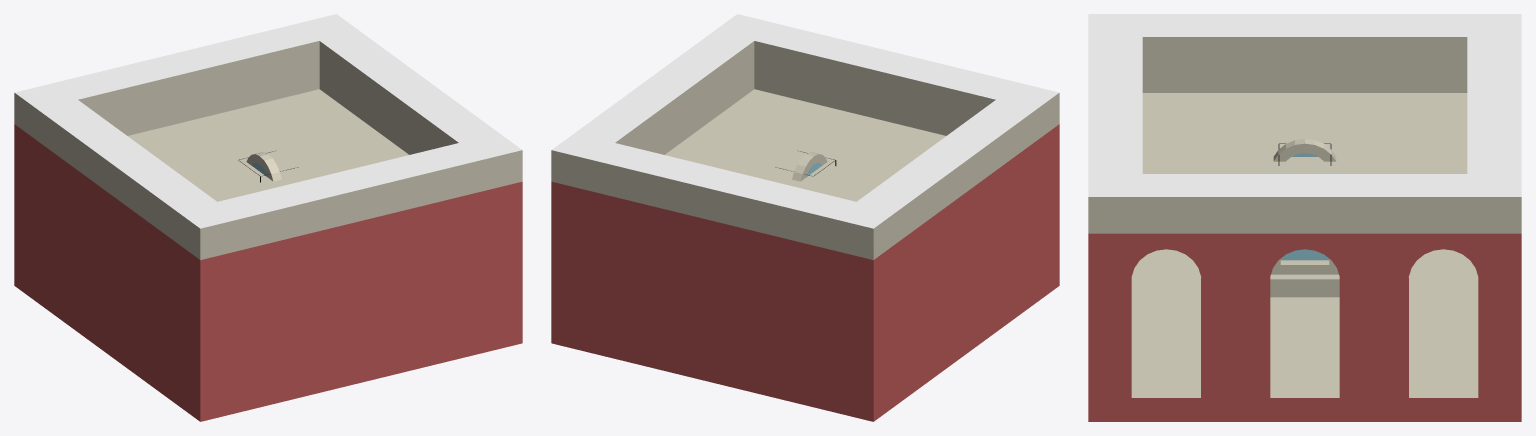
The model's file is Building 63.FBX.
3 views of the same model, side by side, from view 1: azimuth 30°, elevation 25°; view 2: azimuth 150°, elevation 25°; view 3: azimuth 270°, elevation 25° (orthographic). The views are drawn at different scales.
Parts seen in each view (by area): view 1: Group8; view 2: Group8; view 3: Group8, Group10, Group11.
Part boxes in pixels (x1,y1,x2,y2): Group8: (14,14,522,421); Group8: (551,14,1059,421); Group8: (1088,14,1521,421); Group10: (1270,139,1339,297); Group11: (1270,139,1339,297).
Size of the model in its own units: 29.53 by 16.93 by 29.53.
